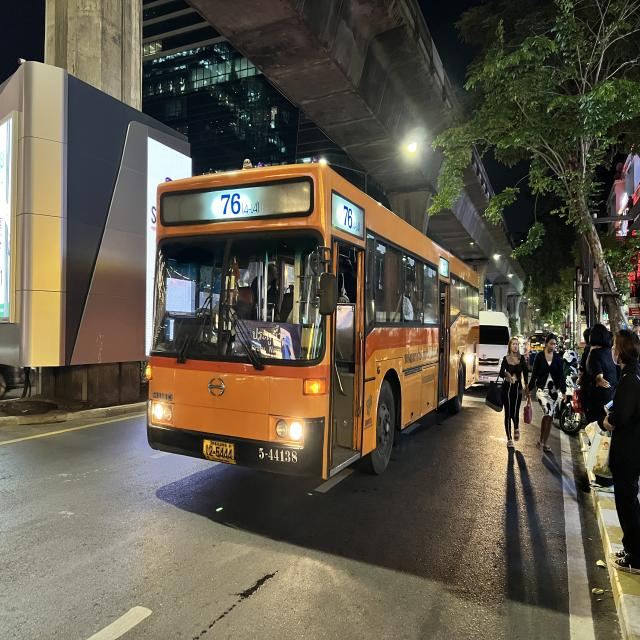BMTA-bus: (141, 150, 482, 497)
Bus-Line-Number: (217, 191, 264, 217)
Destination-Sign-Normal: (235, 319, 301, 362)
